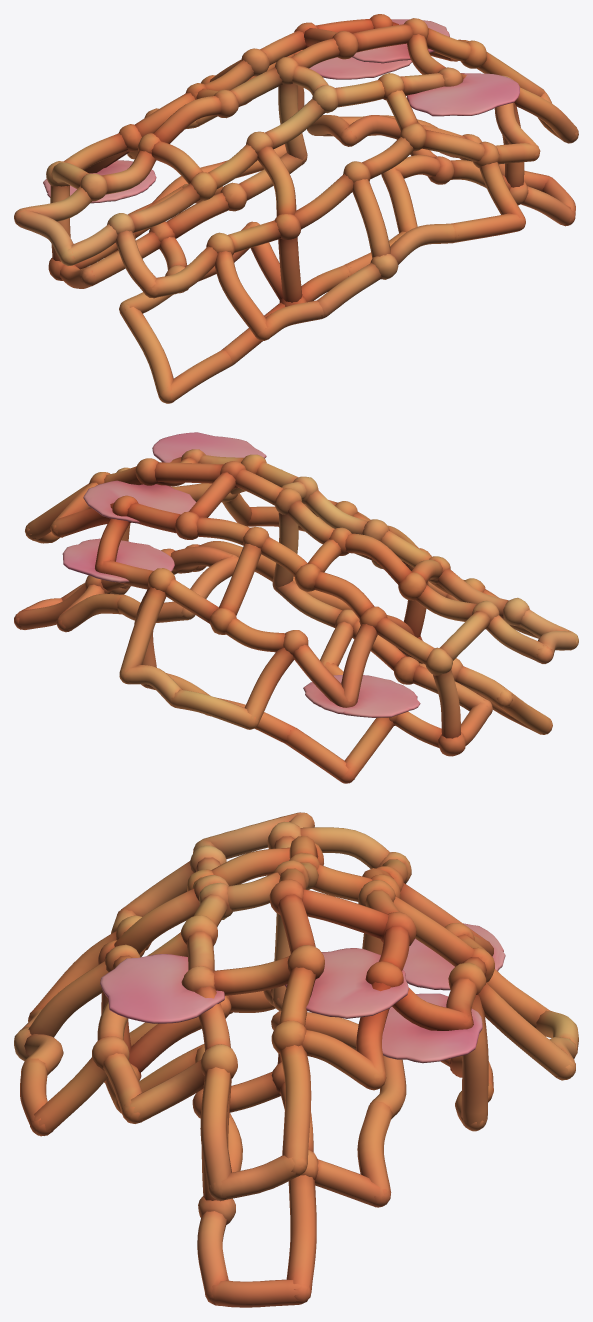
File: smooth-er.glb
3 renders of one model, top to bottom at view 1: azimuth 30°, elevation 25°; view 2: azimuth 150°, elevation 25°; view 3: azimuth 270°, elevation 25°, orthographic. The views are drawn at different scales.
Parts seen in each view (by area): view 1: smooth-er-tubules, smooth-er-sheets; view 2: smooth-er-tubules, smooth-er-sheets; view 3: smooth-er-tubules, smooth-er-sheets.
Part boxes in pixels (bbox=[...]): smooth-er-tubules: bbox=[14, 14, 578, 403]; smooth-er-sheets: bbox=[43, 19, 519, 203]; smooth-er-tubules: bbox=[14, 449, 578, 783]; smooth-er-sheets: bbox=[62, 432, 420, 717]; smooth-er-tubules: bbox=[14, 812, 578, 1307]; smooth-er-sheets: bbox=[100, 923, 505, 1063].
Size of what is drawn, in the model's own units: 4.4 by 2.04 by 2.99.
